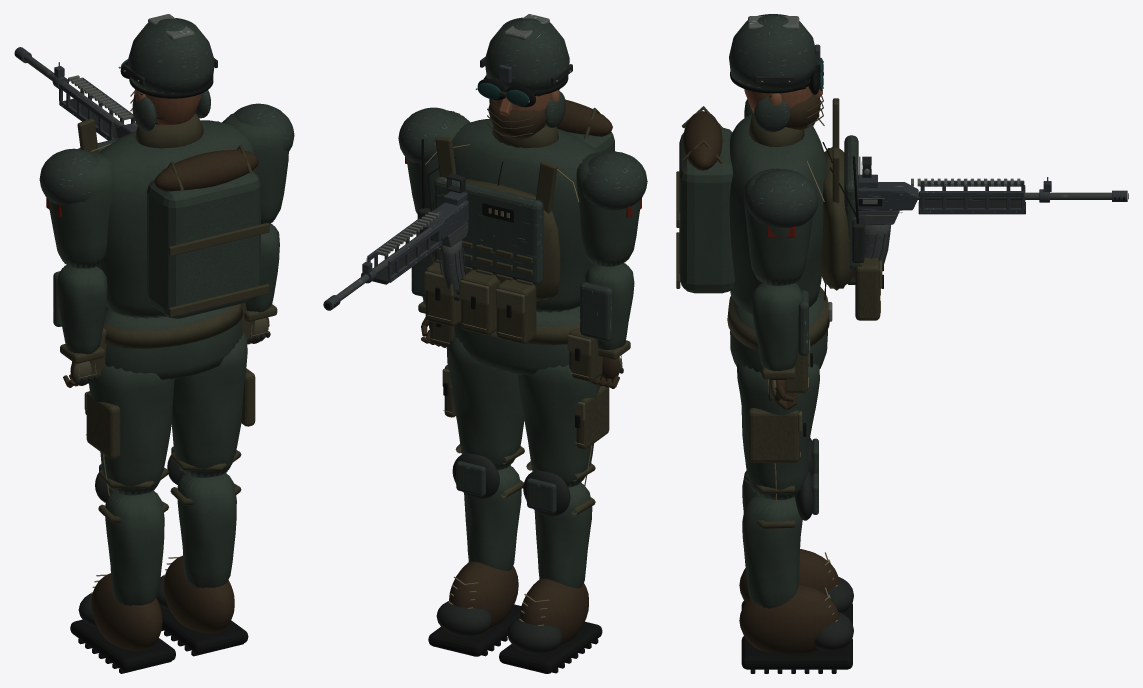
File: raider_heavy.glb
3 views of the same model, side by side, from view 1: azimuth 30°, elevation 25°; view 2: azimuth 150°, elevation 25°; view 3: azimuth 270°, elevation 25° (orthographic). The views are drawn at different scales.
Parts seen in each view (by area): view 1: Torso.002_mesh, LeftShin.002_mesh, RightShin.002_mesh, LeftThigh.002_mesh, Hips.002_mesh, Head.002_mesh, RightThigh.002_mesh, LeftArm.002_mesh, LeftForearm.002_mesh, RightArm.002_mesh, R7_Carbine.003_mesh, RightForearm.002_mesh (+1 smaller); view 2: Torso.002_mesh, LeftShin.002_mesh, RightShin.002_mesh, Head.002_mesh, LeftThigh.002_mesh, RightThigh.002_mesh, LeftArm.002_mesh, Hips.002_mesh, R7_Carbine.003_mesh, LeftForearm.002_mesh, RightArm.002_mesh, Magazine.003_mesh (+2 smaller); view 3: Torso.002_mesh, RightShin.002_mesh, Head.002_mesh, RightThigh.002_mesh, R7_Carbine.003_mesh, RightArm.002_mesh, RightForearm.002_mesh, Hips.002_mesh, LeftShin.002_mesh, Magazine.003_mesh.
Boxes of the visible parts, x1,y1,x2,y2 form: Torso.002_mesh: [77, 113, 269, 318]; LeftShin.002_mesh: [70, 464, 175, 673]; RightShin.002_mesh: [156, 446, 248, 656]; LeftThigh.002_mesh: [84, 364, 174, 495]; Hips.002_mesh: [72, 302, 254, 379]; Head.002_mesh: [118, 14, 217, 131]; RightThigh.002_mesh: [171, 332, 255, 477]; LeftArm.002_mesh: [39, 148, 113, 268]; LeftForearm.002_mesh: [53, 265, 107, 363]; RightArm.002_mesh: [222, 103, 294, 224]; R7_Carbine.003_mesh: [14, 47, 137, 140]; RightForearm.002_mesh: [244, 223, 279, 321]; Torso.002_mesh: [417, 99, 614, 343]; LeftShin.002_mesh: [499, 461, 602, 673]; RightShin.002_mesh: [428, 444, 524, 656]; Head.002_mesh: [475, 14, 572, 139]; LeftThigh.002_mesh: [517, 364, 609, 487]; RightThigh.002_mesh: [442, 335, 524, 470]; LeftArm.002_mesh: [576, 151, 647, 266]; Hips.002_mesh: [430, 306, 603, 381]; R7_Carbine.003_mesh: [323, 173, 468, 310]; LeftForearm.002_mesh: [580, 263, 634, 359]; RightArm.002_mesh: [398, 107, 470, 213]; Magazine.003_mesh: [438, 240, 466, 300]; Torso.002_mesh: [676, 98, 883, 320]; RightShin.002_mesh: [739, 470, 853, 673]; Head.002_mesh: [729, 14, 823, 132]; RightThigh.002_mesh: [736, 363, 819, 505]; R7_Carbine.003_mesh: [858, 156, 1128, 225]; RightArm.002_mesh: [744, 168, 818, 286]; RightForearm.002_mesh: [751, 283, 808, 379]; Hips.002_mesh: [727, 287, 832, 393]; LeftShin.002_mesh: [739, 437, 853, 624]; Magazine.003_mesh: [848, 224, 890, 284].
Bounding box in the file's own units: 0.7111 × 1.75 × 1.14.
Materials: 1 (1 with a texture image).
